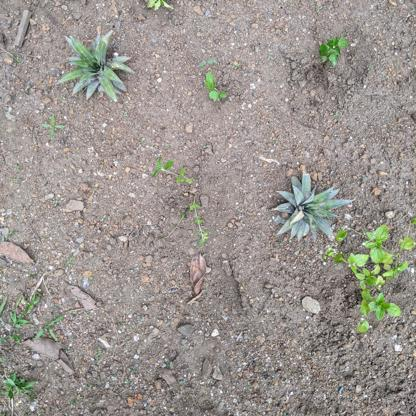pineapple: (266, 169, 351, 245), (57, 31, 138, 106)
weed: (330, 220, 416, 334), (2, 287, 50, 413), (153, 153, 214, 244), (199, 69, 236, 106), (314, 31, 347, 66)
